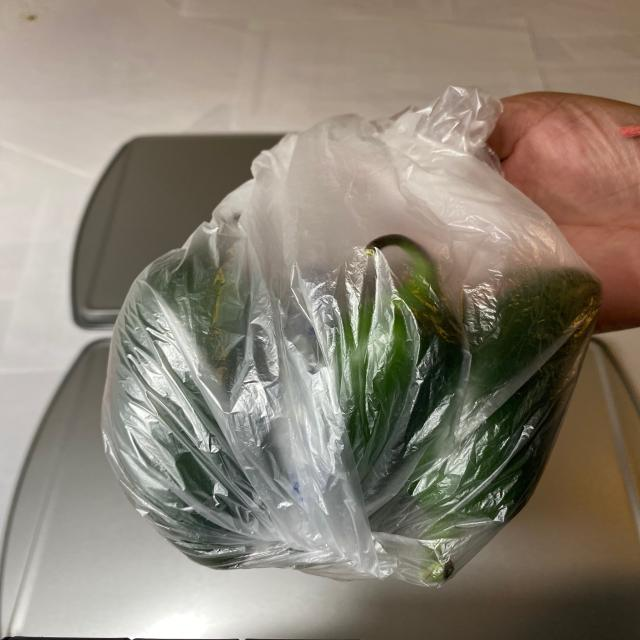chilli: (101, 214, 614, 584)
